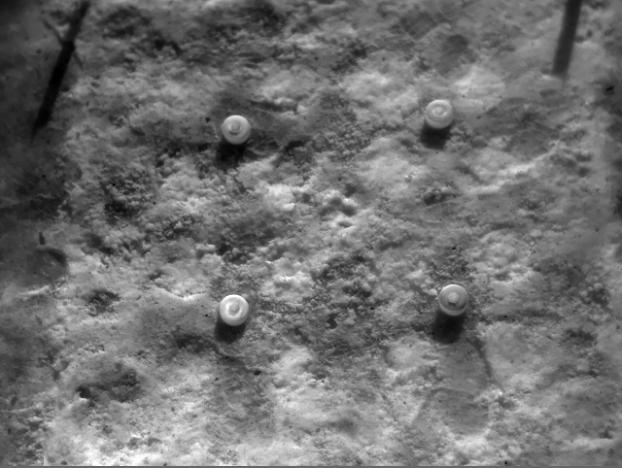landmine: (218, 293, 251, 326), (439, 283, 473, 315), (220, 114, 252, 144), (426, 98, 456, 127)
